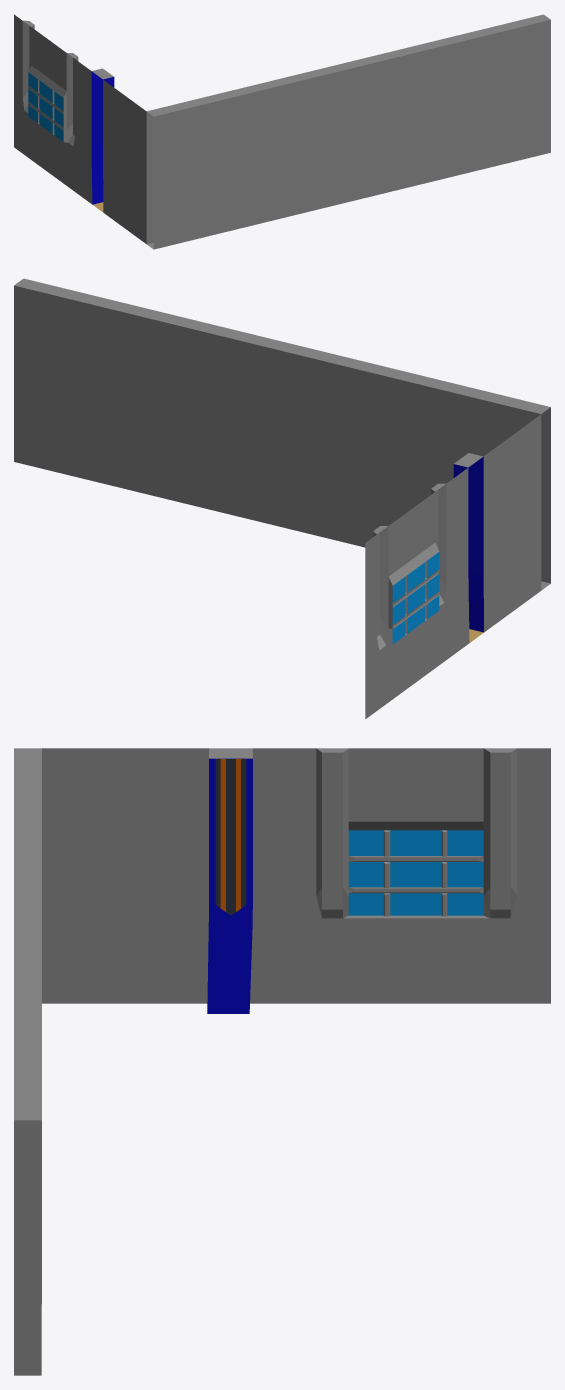
The model's file is PONTA_ARENA.fbx.
3 views of the same model, one above another, from view 1: azimuth 30°, elevation 25°; view 2: azimuth 150°, elevation 25°; view 3: azimuth 270°, elevation 25° (orthographic). The views are drawn at different scales.
Visible parts, largest first — view 1: Plane; view 2: Plane; view 3: Plane.
Part boxes in pixels (left/top/right/bottom): Plane: left=14, top=14, right=550, bottom=249; Plane: left=14, top=278, right=550, bottom=719; Plane: left=14, top=748, right=550, bottom=1375.
Bounding box in the file's own units: 2774 × 880 × 1678.
